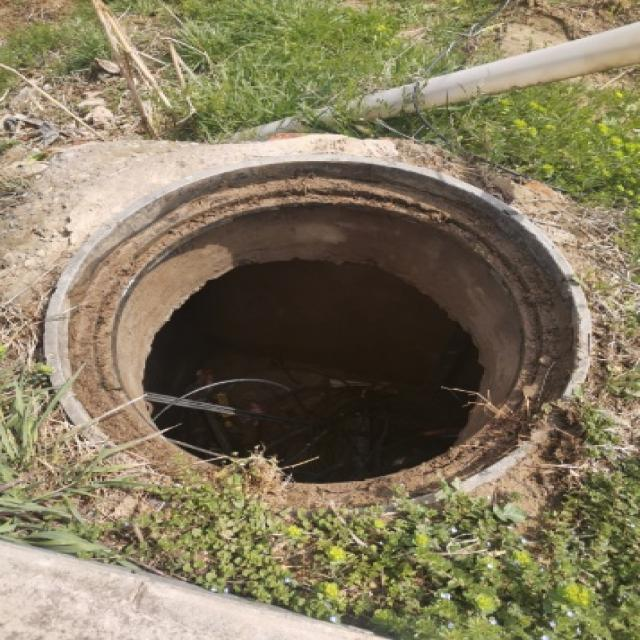Uncovered: (40, 143, 614, 516)
